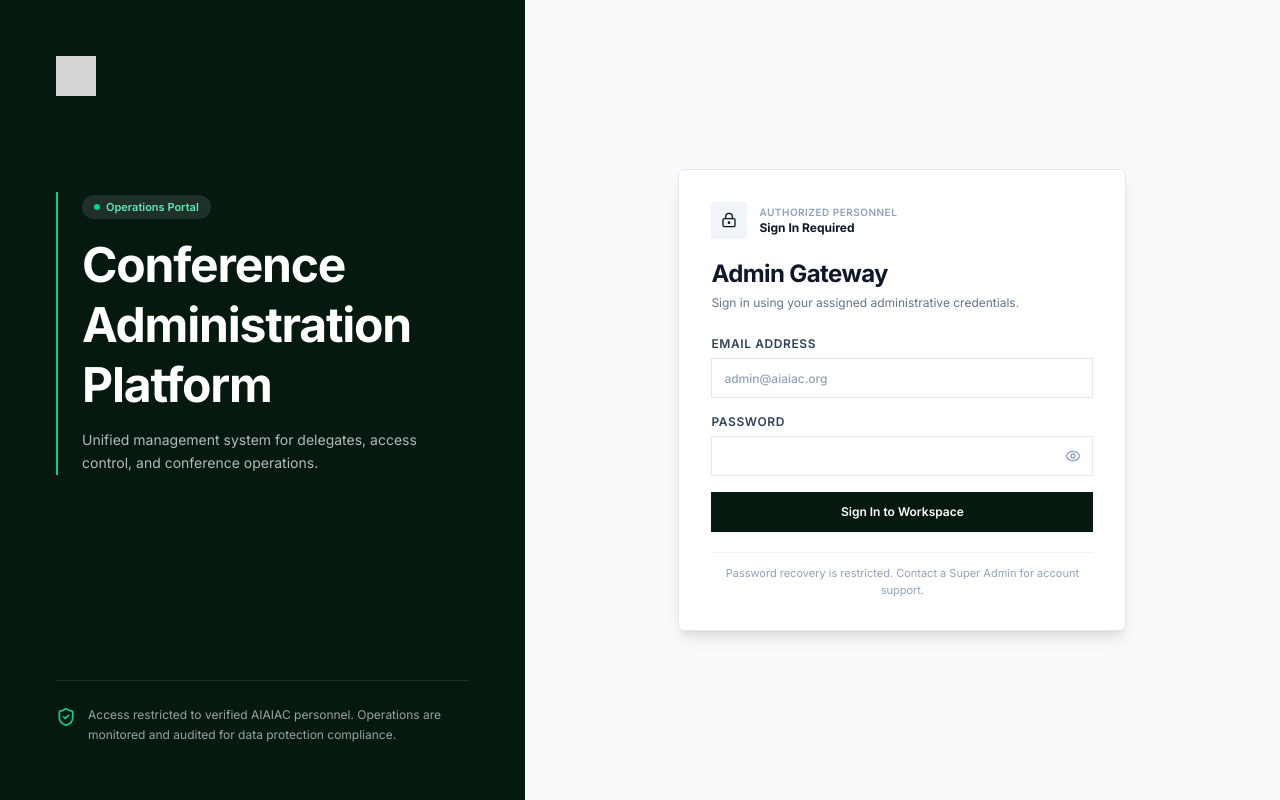
Admin authentication and layout › renders the login form and validates required fields
Expected: the heading "Admin Gateway" is shown, [711,259,888,288]
Expected: the field labelled "Email Address" is shown, [711,358,1093,398]
Click the button "Sign In to Workspace".
click(902, 512)  # box [711,492,1093,532]
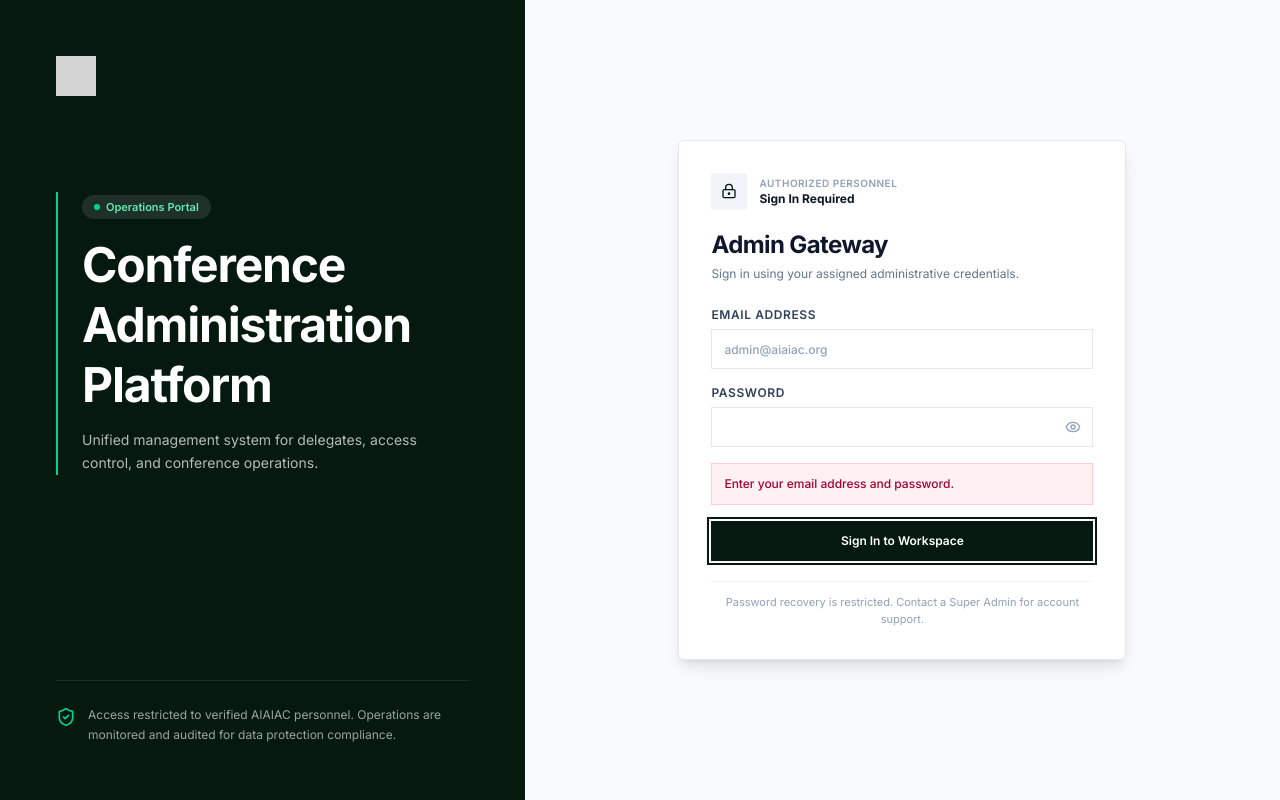
Expected: the message reads "Enter your email address and password.", [724,476,954,491]
